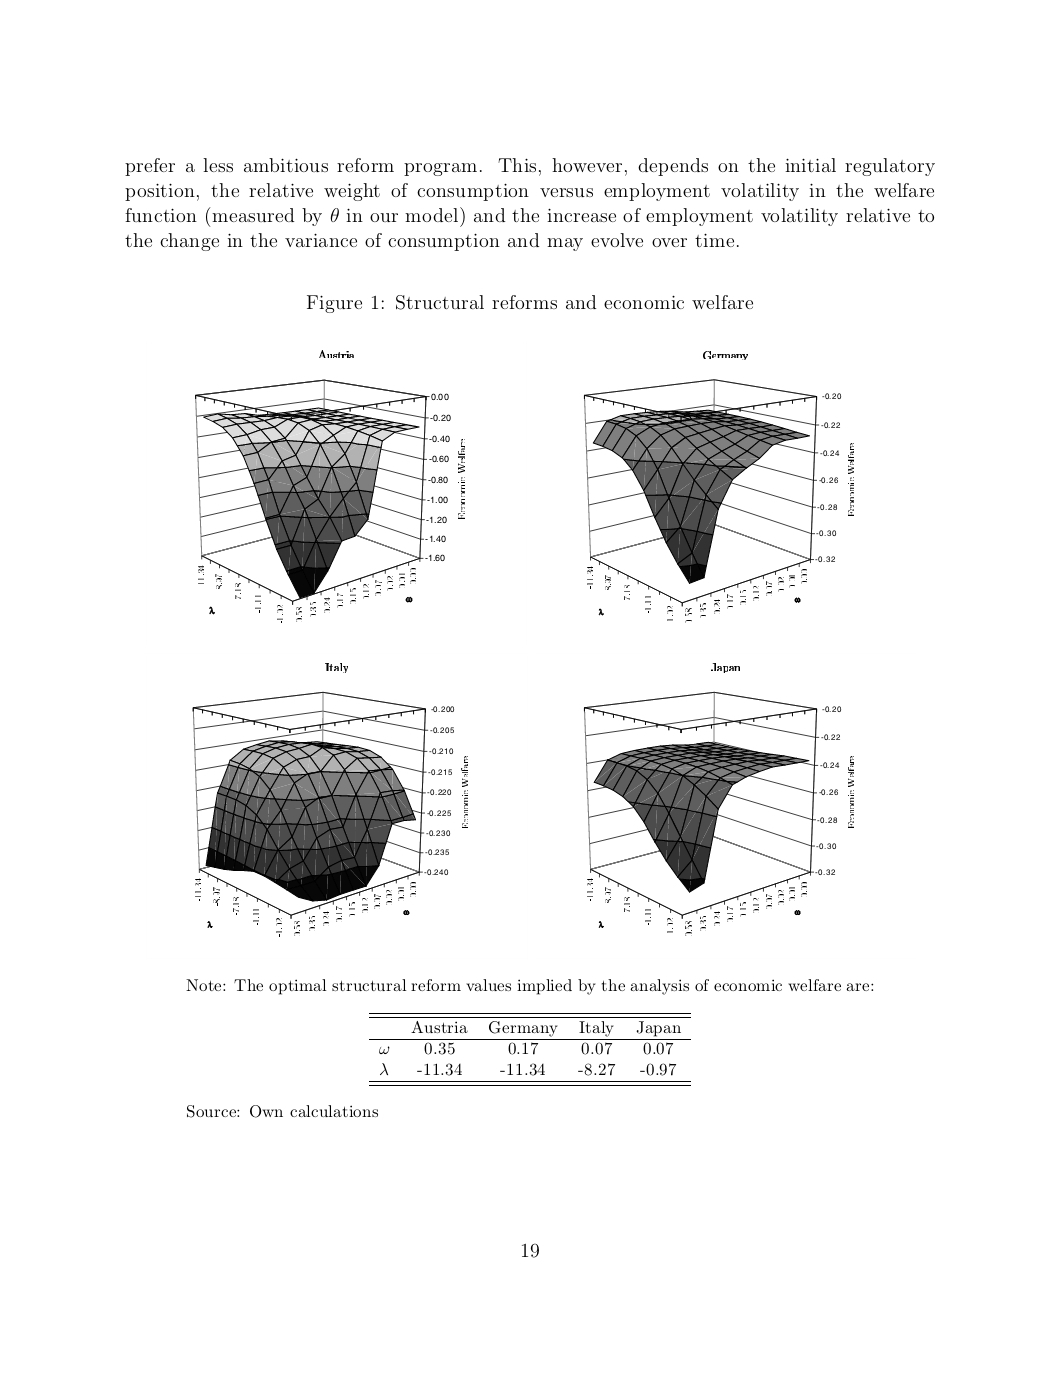Table: (369, 1013, 690, 1085)
figure: (192, 690, 467, 937), (583, 690, 853, 936), (195, 378, 464, 623), (583, 379, 853, 622)
